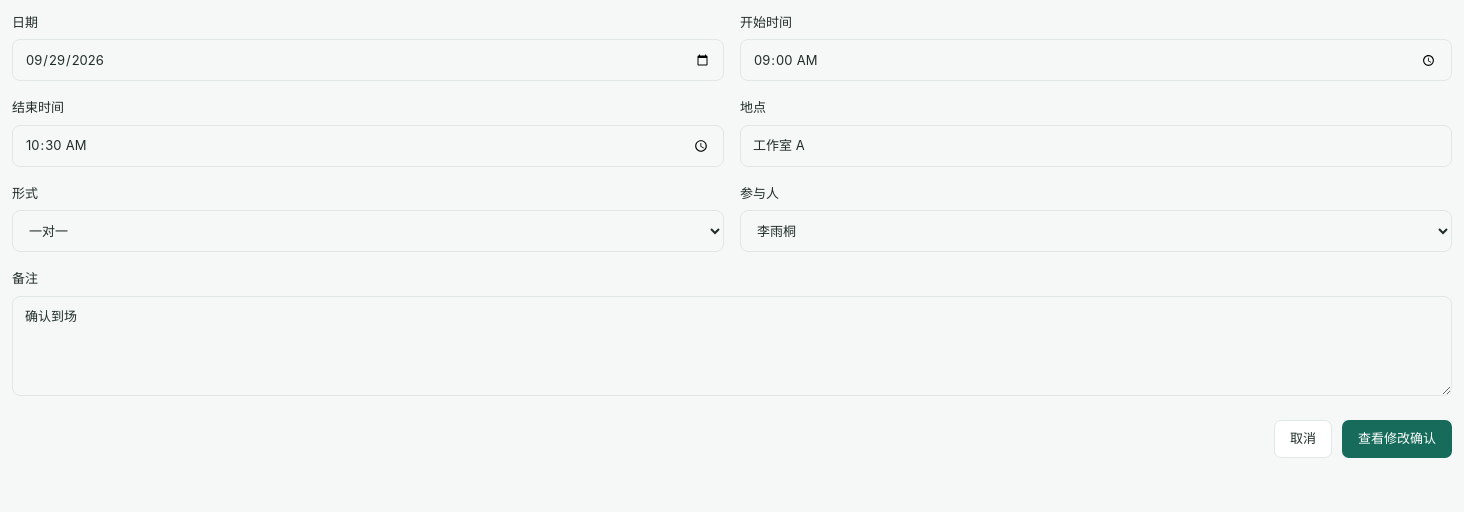
Test case: completed schedule editing › blocks an edited completed course that overlaps another schedule
Replace the text in the time field labelled "开始时间" with "14:00" at [1096, 60], box [740,39,1452,81]
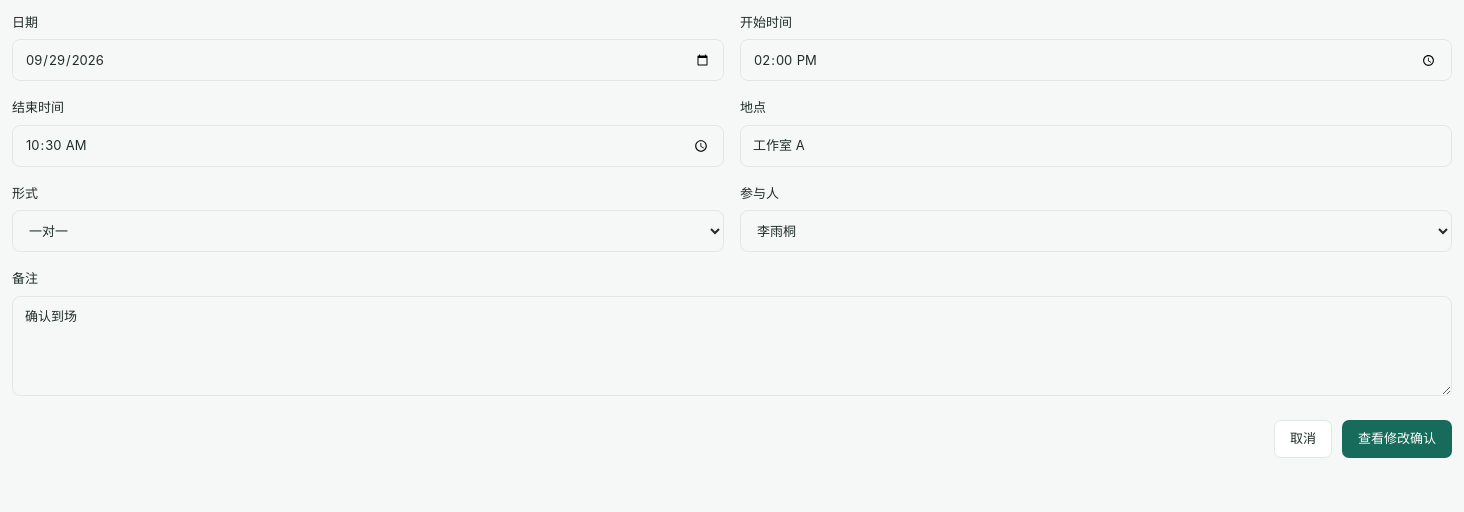
Replace the text in the time field labelled "结束时间" with "15:00" at [368, 146], box [12,125,724,167]
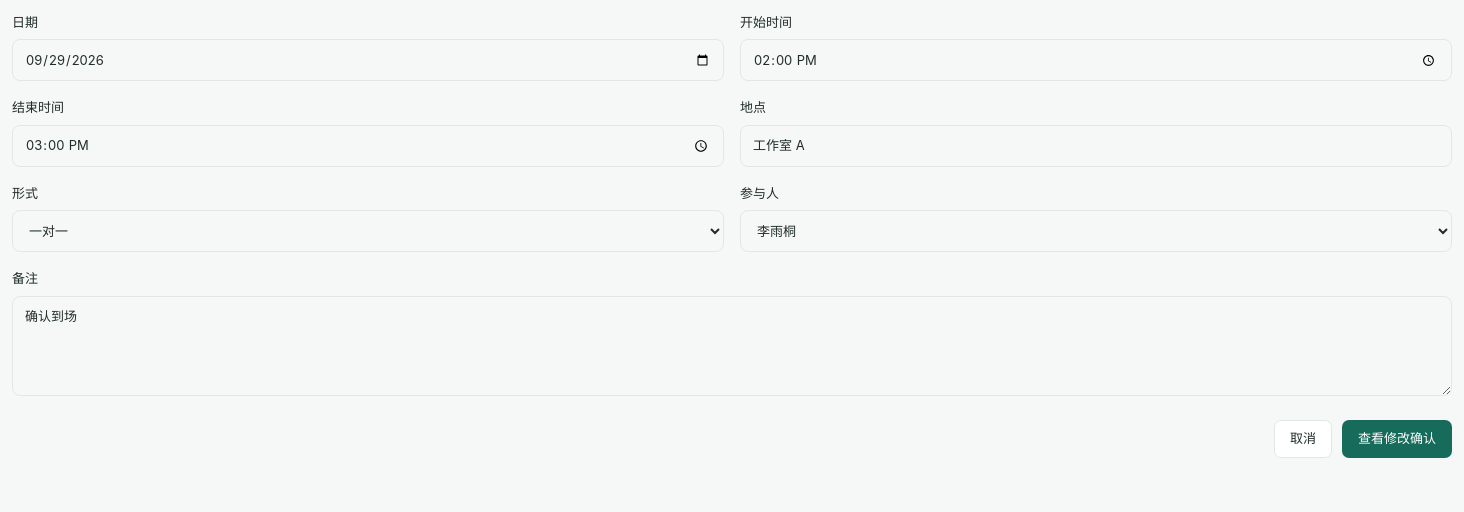
Click the button "查看修改确认" at [1397, 439], box [1342,420,1452,458]
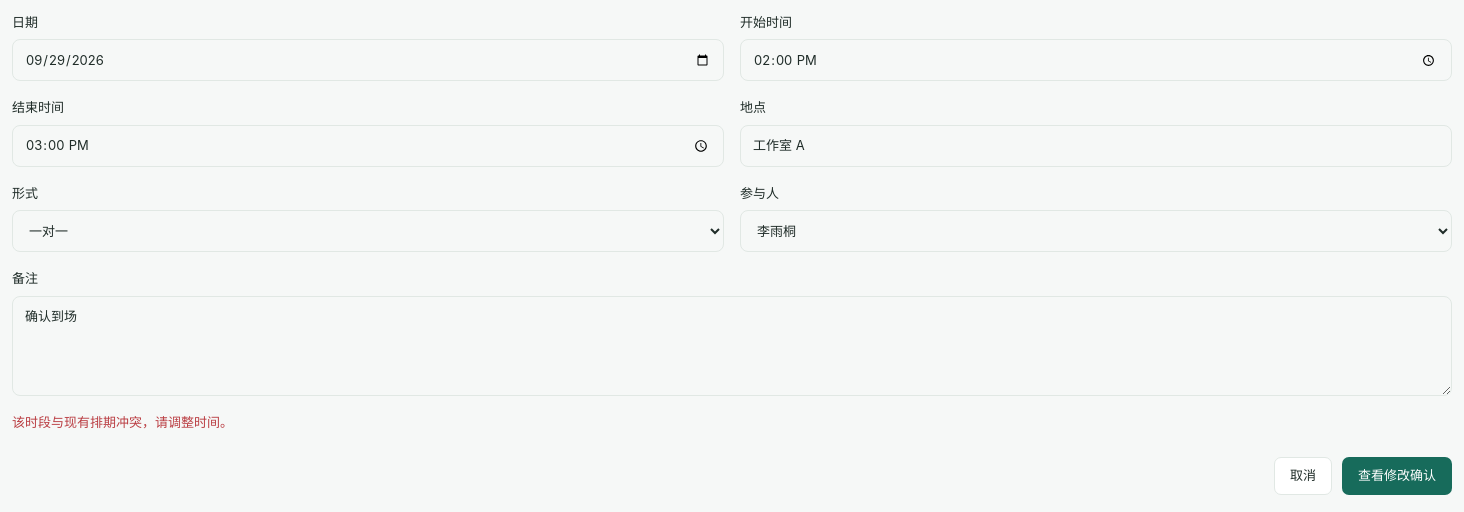
Expected: the message shows "该时段与现有排期冲突", [12,414,233,430]
